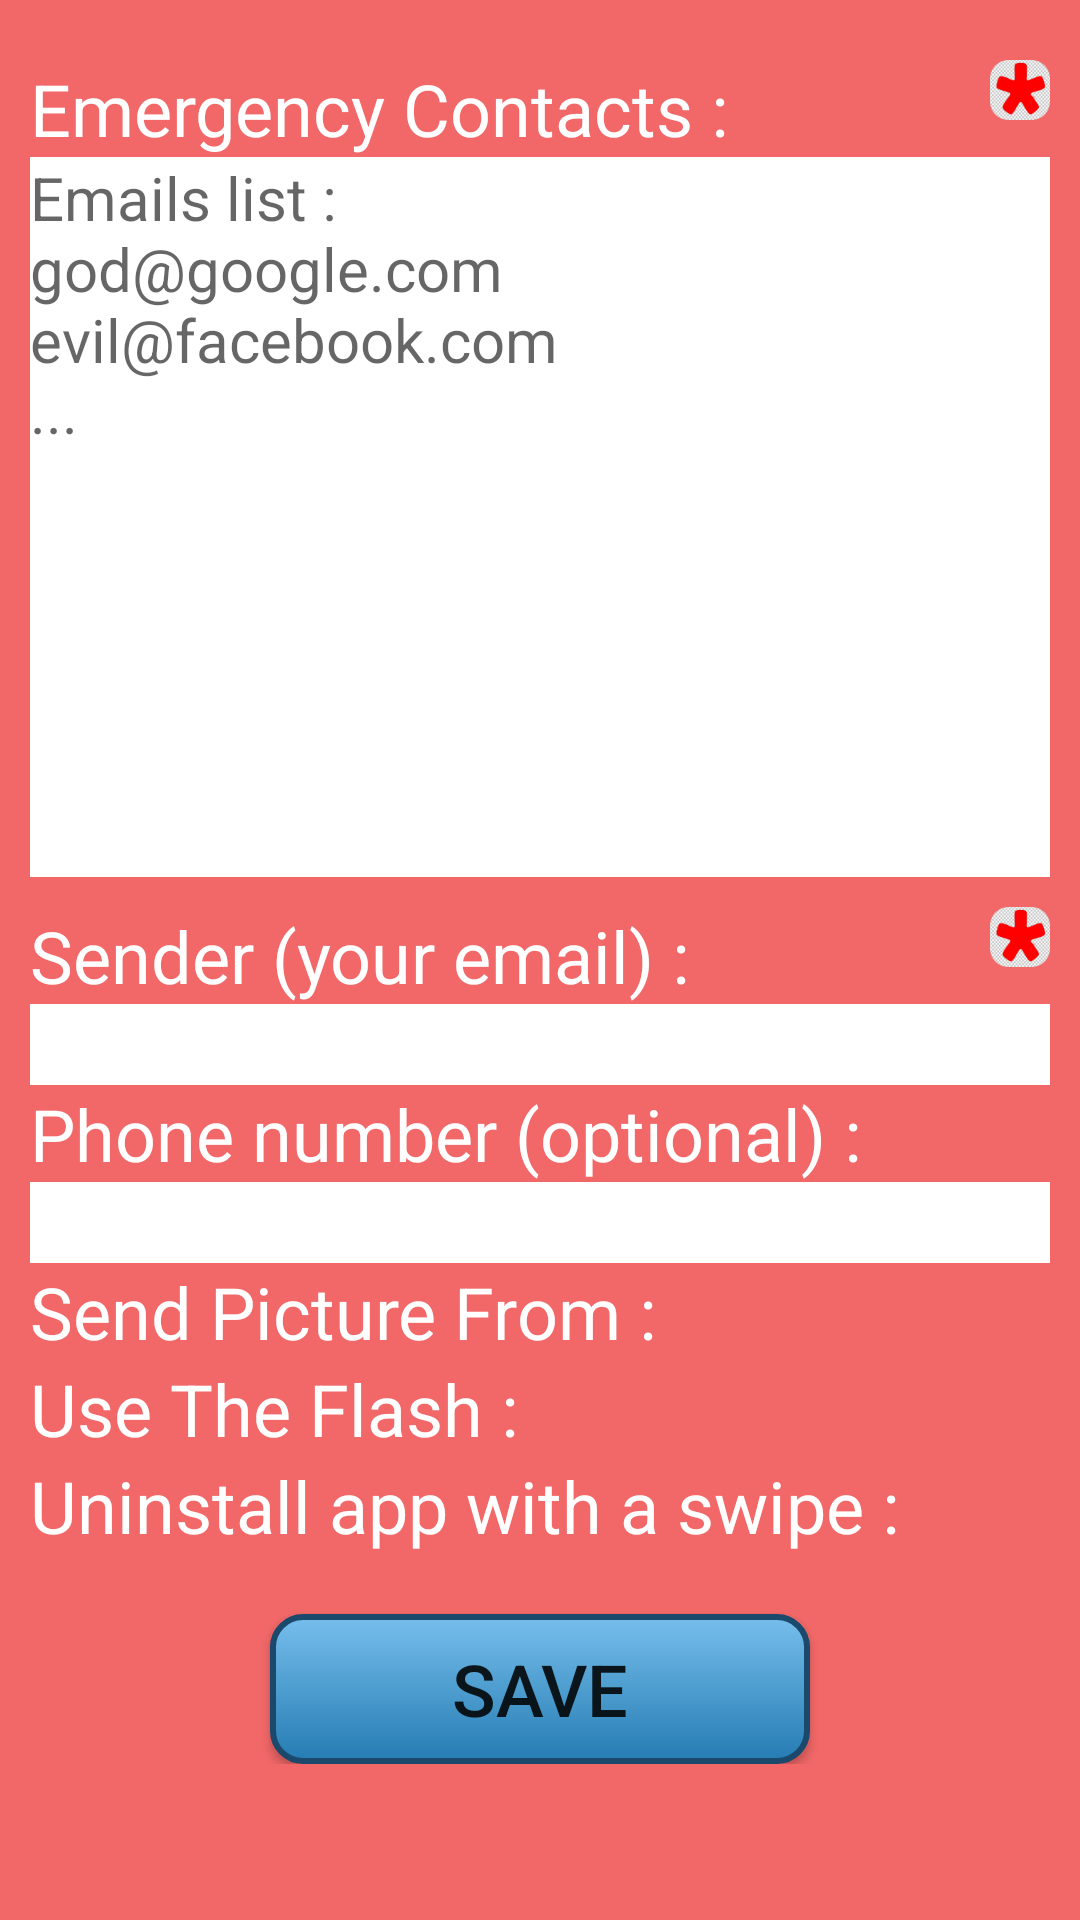

Icon bounding boxes for this 1080x1920 phone screenshot, format (x1, y1, x2, y2):
mandatory: (990, 60, 1050, 120), (990, 907, 1050, 967)
